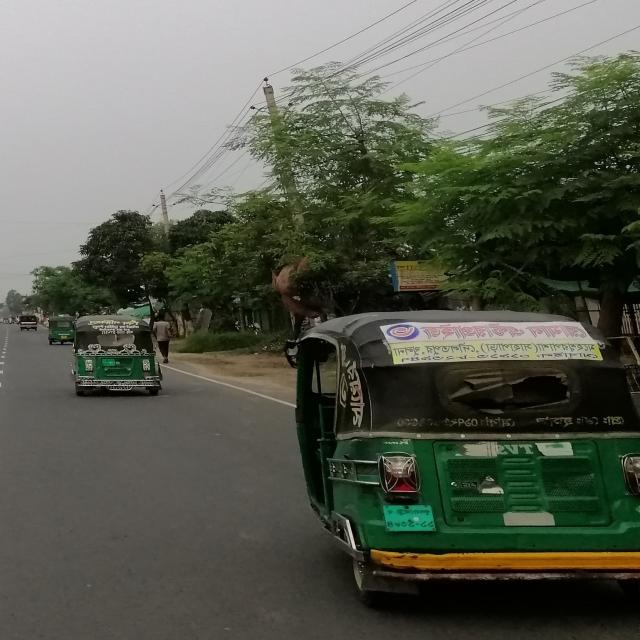CNG: (258, 306, 640, 604), (64, 308, 172, 415)
